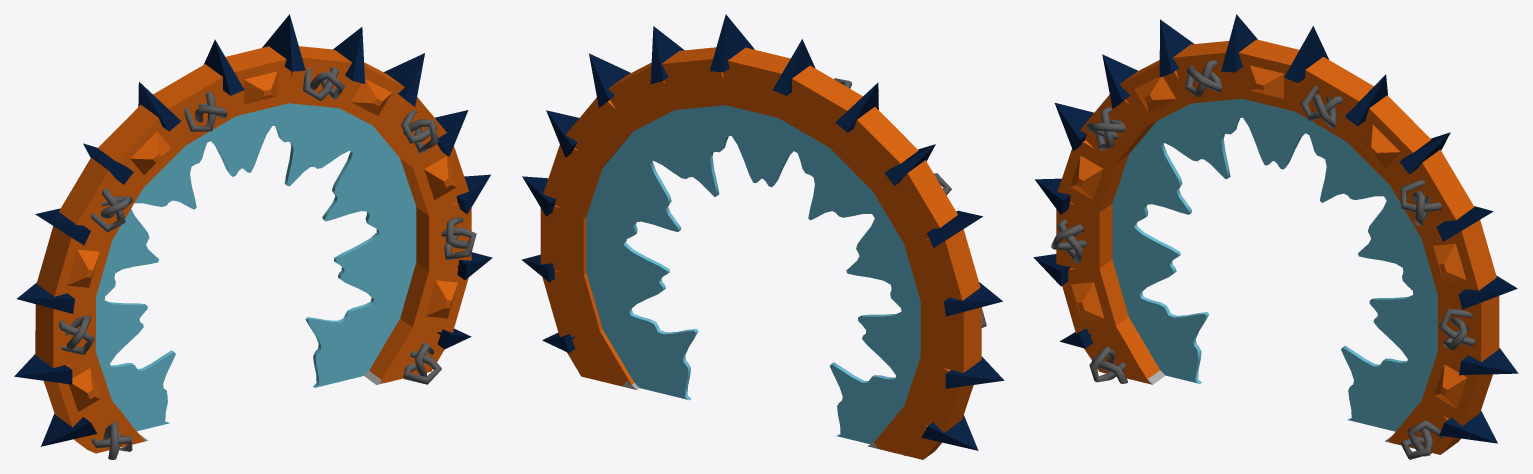
Rendered from Portal.fbx.
3 renders of one model, left to right at view 1: azimuth 30°, elevation 25°; view 2: azimuth 150°, elevation 25°; view 3: azimuth 330°, elevation 25°, orthographic.
Visible parts, largest first — view 1: Box031; view 2: Box031; view 3: Box031.
Part boxes in pixels (x1,y1,x2,y2): Box031: (14,14,492,459); Box031: (521,14,1004,459); Box031: (1033,14,1518,459).
Bounding box in the file's own units: 223 × 171 × 30.61.
